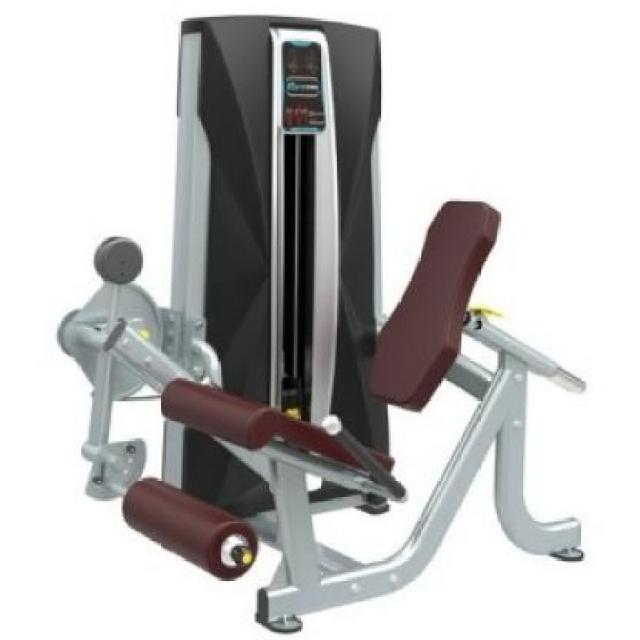leg extension: (59, 11, 603, 637)
